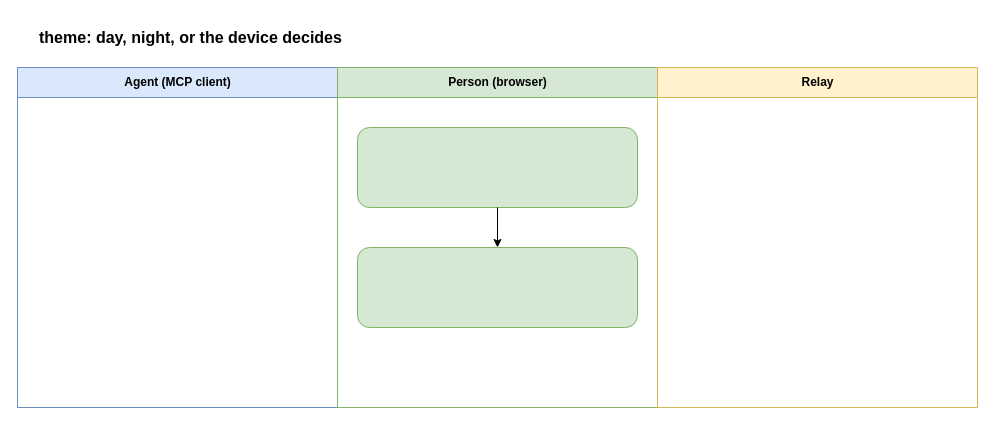
Image size: 995x425. Some labels were removed from this diagram. Here are the shapes that lost their labels. From the top down, the box of each, then its label:
(356, 126, 638, 208): 1. the menu offers the three; Night marks every page, Auto takes it back
(356, 246, 638, 328): 2. only a signed-in browser posts it, with its form token
